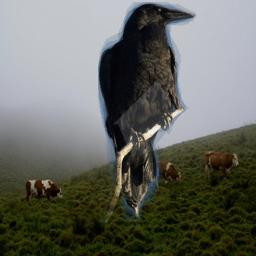Crow: (98, 2, 196, 222)
